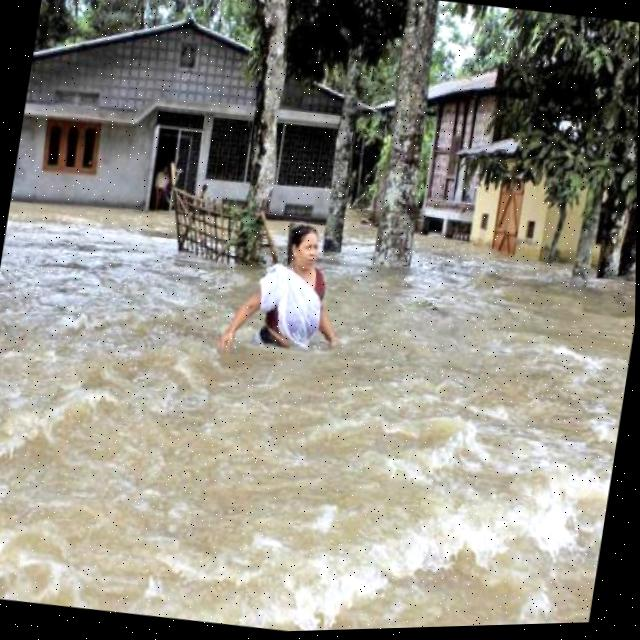civilian: (201, 196, 375, 406)
